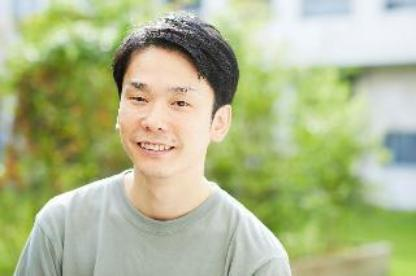person: (27, 8, 295, 276)
